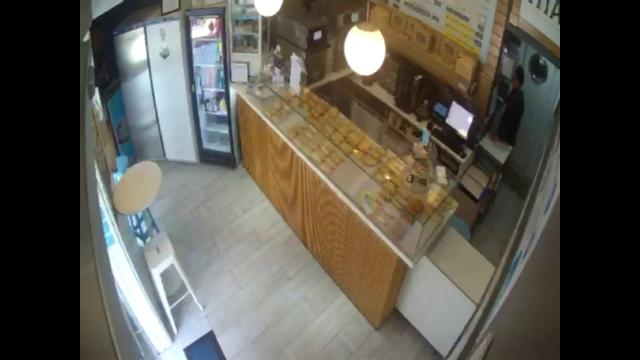empleado: (492, 65, 524, 147)
